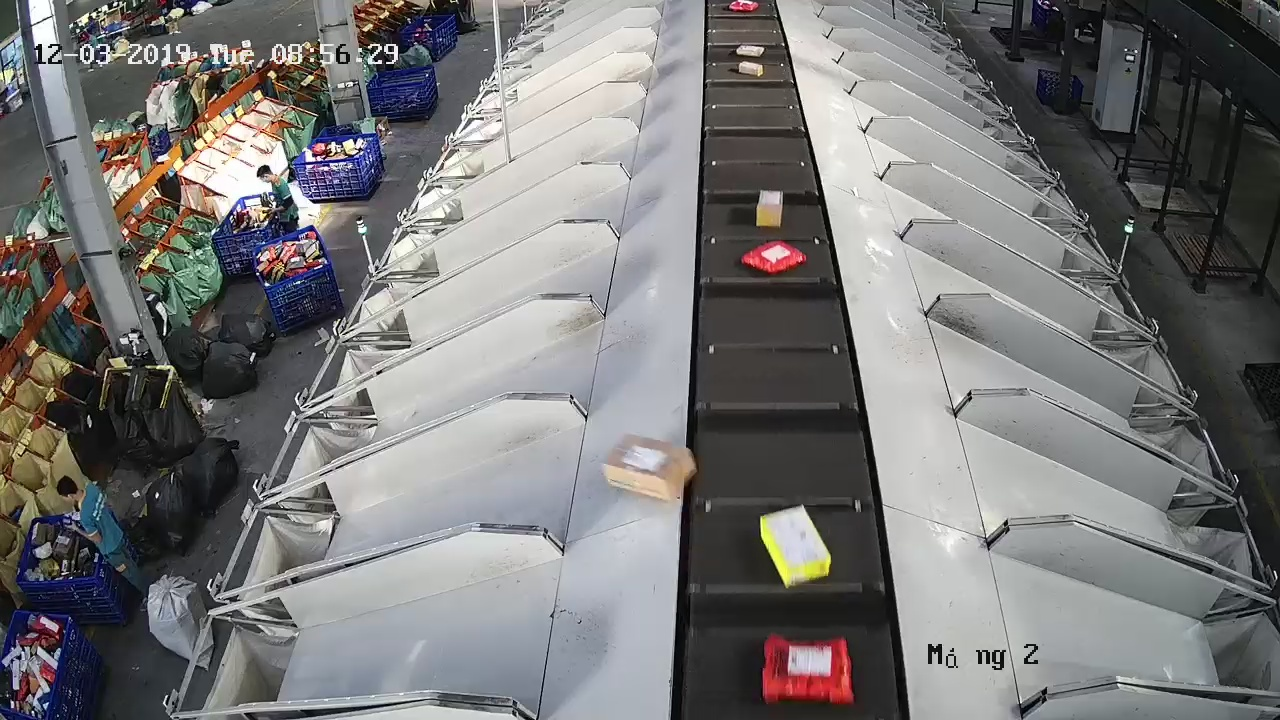parcel: (760, 631, 856, 707), (600, 432, 698, 502), (758, 504, 833, 590), (740, 239, 808, 278), (754, 188, 784, 230)
